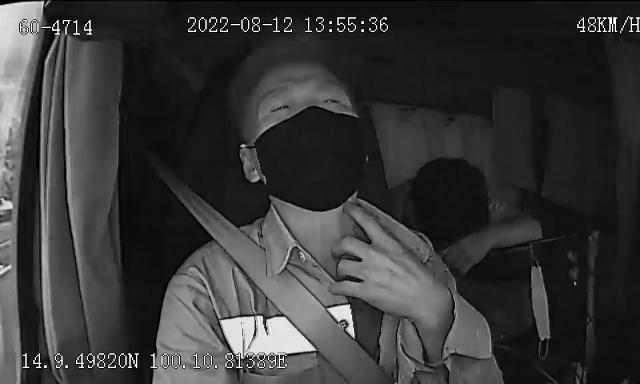SafeDriving: (310, 90, 352, 112)
Seatbelt: (164, 170, 406, 384)
